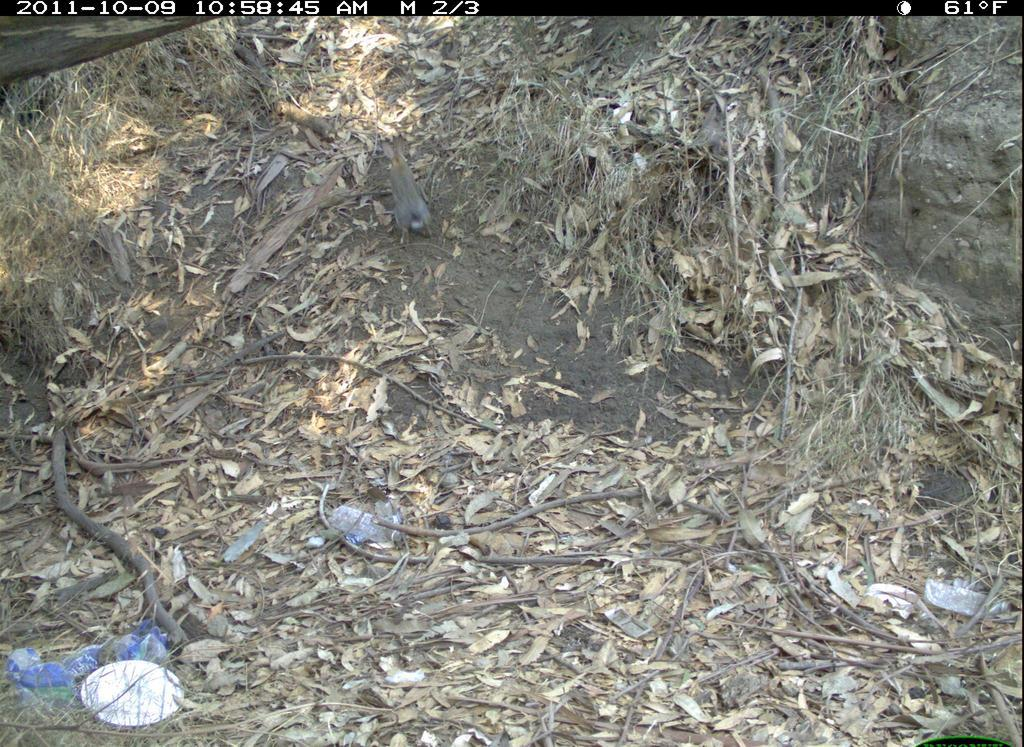rabbit: (375, 130, 438, 251)
